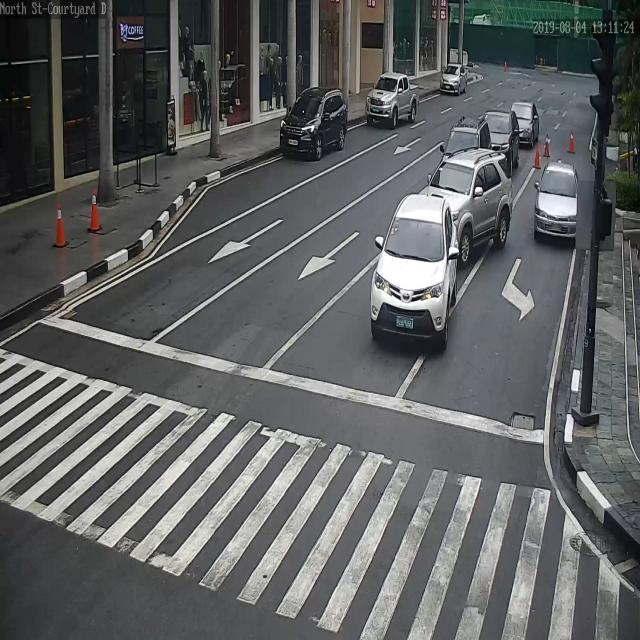car: (372, 193, 463, 345), (423, 147, 516, 259), (280, 85, 351, 161), (534, 162, 579, 240), (365, 74, 420, 130), (482, 109, 520, 173), (440, 121, 489, 168), (510, 101, 541, 146), (440, 63, 471, 94)
